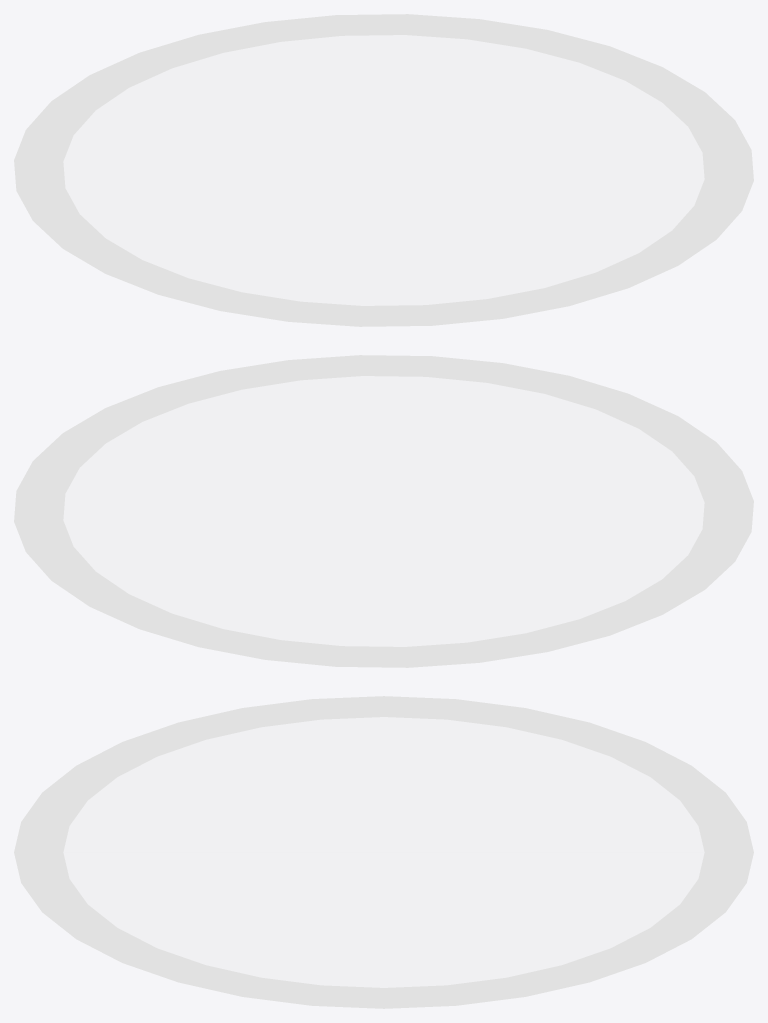
Rendered from selection_circle.glb.
3 renders of one model, top to bottom at view 1: azimuth 30°, elevation 25°; view 2: azimuth 150°, elevation 25°; view 3: azimuth 270°, elevation 25°, orthographic.
Parts seen in each view (by area): view 1: Circle; view 2: Circle; view 3: Circle.
Part boxes in pixels (bbox=[...]): Circle: bbox=[14, 14, 753, 326]; Circle: bbox=[14, 355, 753, 667]; Circle: bbox=[14, 696, 753, 1008].
Size of the model in its own units: 2 by 0 by 2.
Materials: 2 (2 with a texture image).
